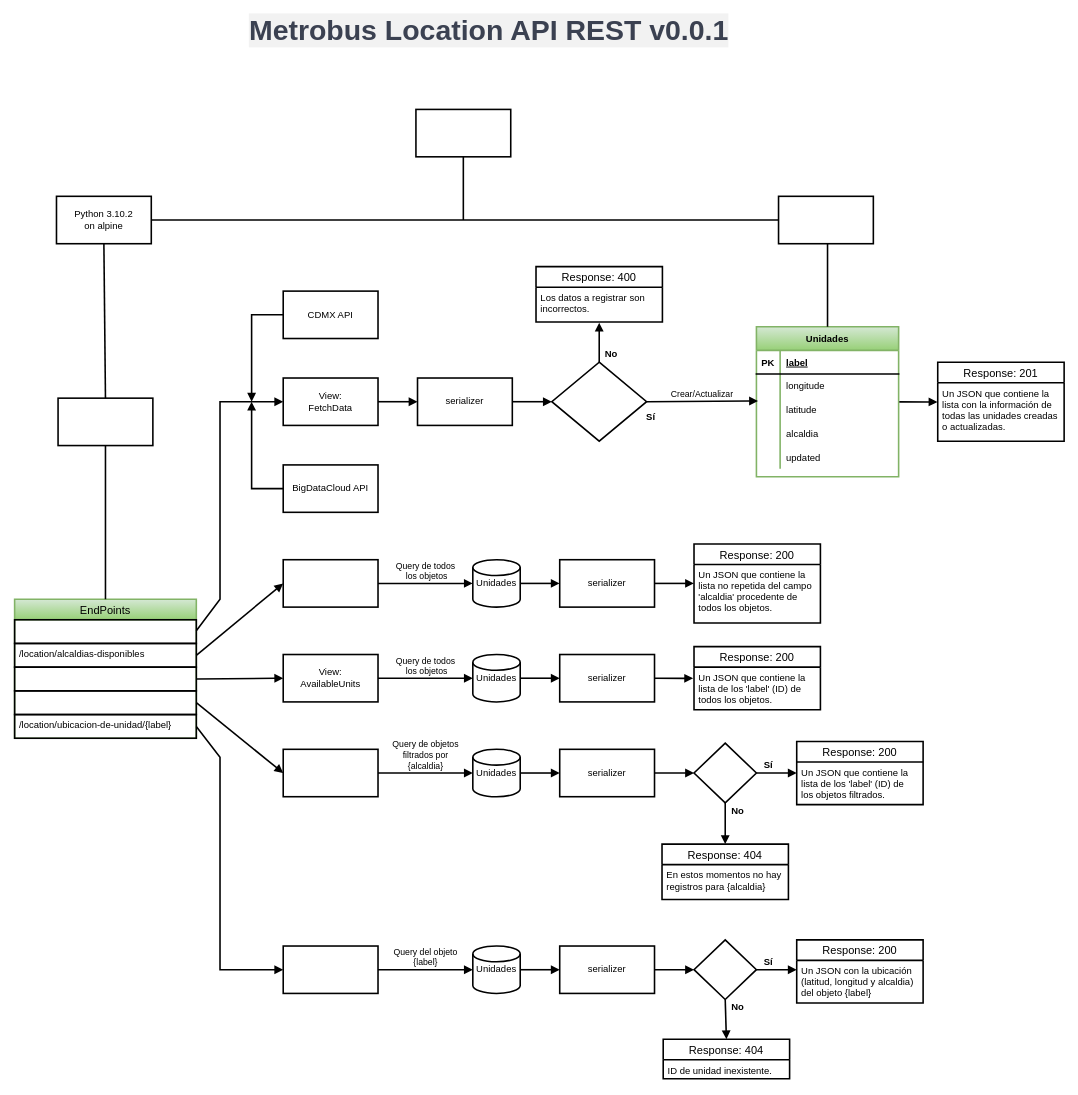
This 1078x1095 diagram has some shape labels left out. Here are the shapes that lost their labels. From the top down, the centre of each, then its label:
At (463,132): "docker-compose 2.4.1".
At (825,219): "PostgreSQL 14.2".
At (105,421): "Django 4.0.4 + Swagger".
At (599,401): "Los datos son válidos?".
At (330,583): "View: AvailableLocalities".
At (105,631): "/location/fetch-data".
At (105,678): "/location/unidades-disponibles".
At (105,702): "/location/unidades-en-alcaldia/{alcaldia}".
At (330,772): "View: UnitsInLocality".
At (725,772): "Hay objetos?".
At (330,969): "View: UnitLocation".
At (725,969): "Existe el objeto?".
